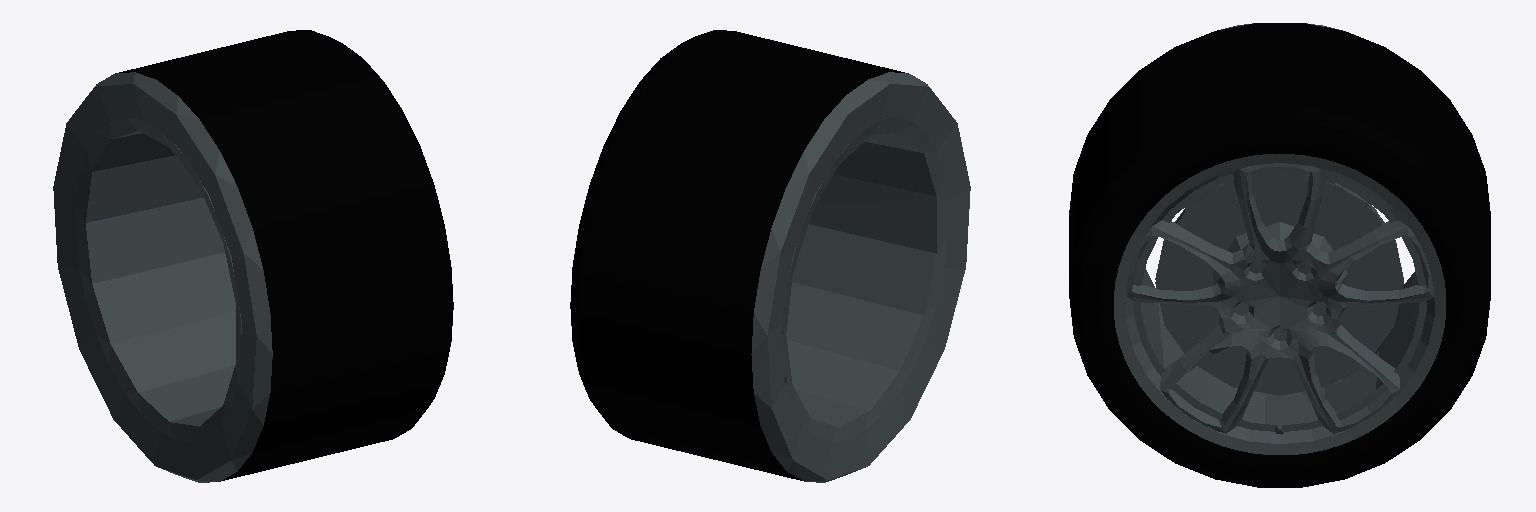
The model's file is 911_wheel.obj.
3 views of the same model, side by side, from view 1: azimuth 30°, elevation 25°; view 2: azimuth 150°, elevation 25°; view 3: azimuth 270°, elevation 25° (orthographic).
Visible parts, largest first — view 1: part_025.000_part_025.002, part_025.001; view 2: part_025.000_part_025.002, part_025.001; view 3: part_025.000_part_025.002, part_025.001.
Boxes of the visible parts, x1,y1,x2,y2 form: part_025.000_part_025.002: [115, 30, 453, 481]; part_025.001: [53, 72, 272, 482]; part_025.000_part_025.002: [570, 30, 908, 480]; part_025.001: [751, 72, 970, 482]; part_025.000_part_025.002: [1069, 23, 1490, 487]; part_025.001: [1114, 23, 1445, 454].
Size of the model in its own units: 1.37 by 2.47 by 2.48.